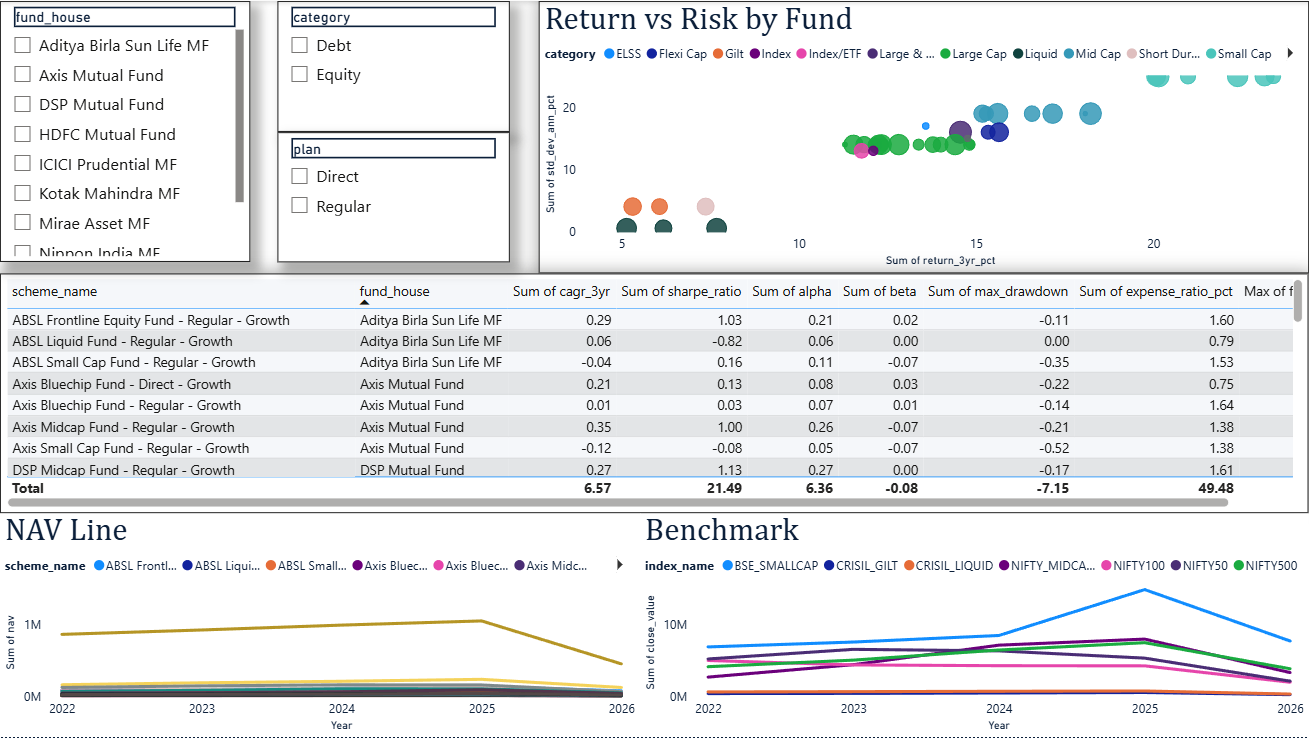

What the dashboard file says about the page in this screenshot:
{"tool":"powerbi","page":{"name":"Fund Performance","canvas":[1280,720],"ordinal":1},"visuals":[{"type":"scatterChart","title":"Return vs Risk by Fund","fields":{"X":["Sum(07_scheme_performance_cleaned.return_3yr_pct)"],"Y":["Sum(07_scheme_performance_cleaned.std_dev_ann_pct)"],"Series":["07_scheme_performance_cleaned.category"],"Size":["Sum(07_scheme_performance_cleaned.aum_crore)"],"Category":["07_scheme_performance_cleaned.scheme_name"]},"box":[527,0,753.3,266.6],"z":0},{"type":"tableEx","fields":{"Values":["fund_scorecard.scheme_name","fund_scorecard.fund_house","Sum(fund_scorecard.cagr_3yr)","Sum(fund_scorecard.sharpe_ratio)","Sum(fund_scorecard.alpha)","Sum(fund_scorecard.beta)","Sum(fund_scorecard.max_drawdown)","Sum(fund_scorecard.expense_ratio_pct)","Max(fund_scorecard.fund_score)"]},"box":[0,266.6,1280.3,234.8],"z":1000},{"type":"lineChart","title":"NAV Line","fields":{"Category":["02_nav_history_cleaned.date.Variation.Date Hierarchy.Year","02_nav_history_cleaned.date.Variation.Date Hierarchy.Quarter","02_nav_history_cleaned.date.Variation.Date Hierarchy.Month","02_nav_history_cleaned.date.Variation.Date Hierarchy.Day"],"Y":["Sum(02_nav_history_cleaned.nav)"],"Series":["01_fund_master_cleaned.scheme_name"]},"box":[0,501.4,626.1,218.9],"z":2000},{"type":"lineChart","title":"Benchmark","fields":{"Category":["10_benchmark_indices_cleaned.date.Variation.Date Hierarchy.Year","10_benchmark_indices_cleaned.date.Variation.Date Hierarchy.Quarter","10_benchmark_indices_cleaned.date.Variation.Date Hierarchy.Month","10_benchmark_indices_cleaned.date.Variation.Date Hierarchy.Day"],"Y":["Sum(10_benchmark_indices_cleaned.close_value)"],"Series":["10_benchmark_indices_cleaned.index_name"]},"box":[626.1,501.4,654.2,218.9],"z":3000},{"type":"slicer","title":"Fund House","fields":{"Values":["01_fund_master_cleaned.fund_house"]},"box":[0,0,244.6,255.6],"z":4000},{"type":"slicer","title":"Category","fields":{"Values":["01_fund_master_cleaned.category"]},"box":[271.5,0,227.4,128.4],"z":5000},{"type":"slicer","title":"Plan","fields":{"Values":["01_fund_master_cleaned.plan"]},"box":[271.5,128.4,227.4,127.2],"z":6000}]}

Visuals, with their boxes in screenshot pixels (x1, y1, x2, y2), scaled from the page's 1280x720 canvas onto the 1309x738 screenshot:
"Return vs Risk by Fund" scatterChart: (x1=539, y1=0, x2=1308, y2=273)
tableEx - fund_scorecard.scheme_name x fund_scorecard.fund_house: (x1=0, y1=273, x2=1308, y2=514)
"NAV Line" lineChart: (x1=0, y1=514, x2=640, y2=737)
"Benchmark" lineChart: (x1=640, y1=514, x2=1308, y2=737)
"Fund House" slicer: (x1=0, y1=0, x2=250, y2=262)
"Category" slicer: (x1=278, y1=0, x2=510, y2=132)
"Plan" slicer: (x1=278, y1=132, x2=510, y2=262)
